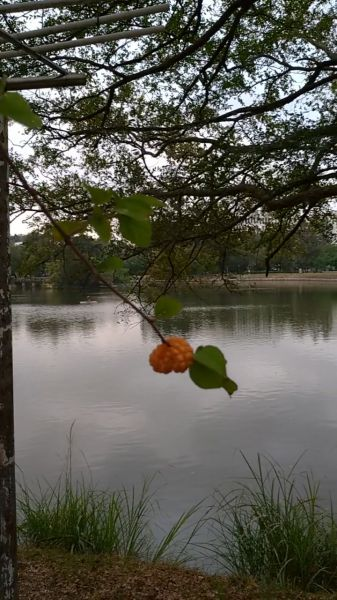eggs: (143, 335, 199, 378)
